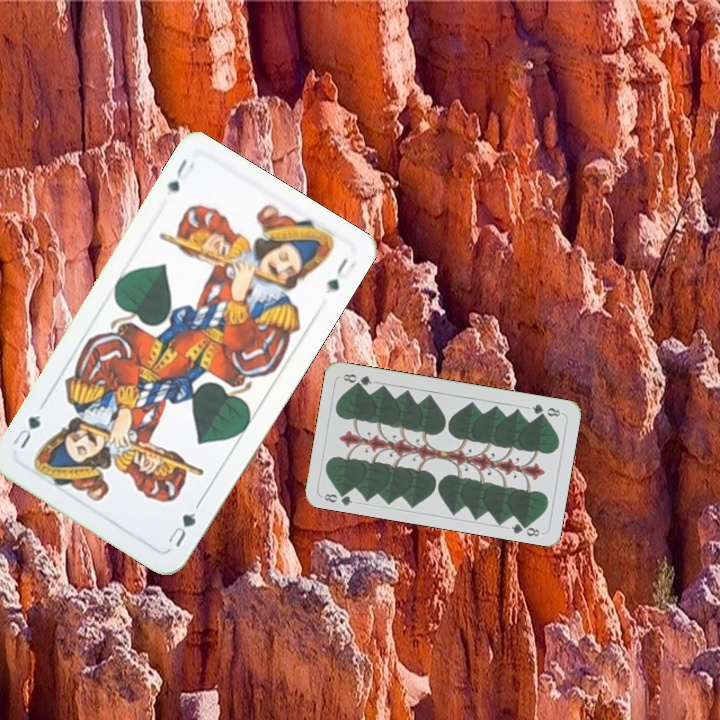G8: (320, 486, 355, 508), (528, 400, 565, 419)
GU: (162, 508, 199, 550), (163, 153, 197, 195)
